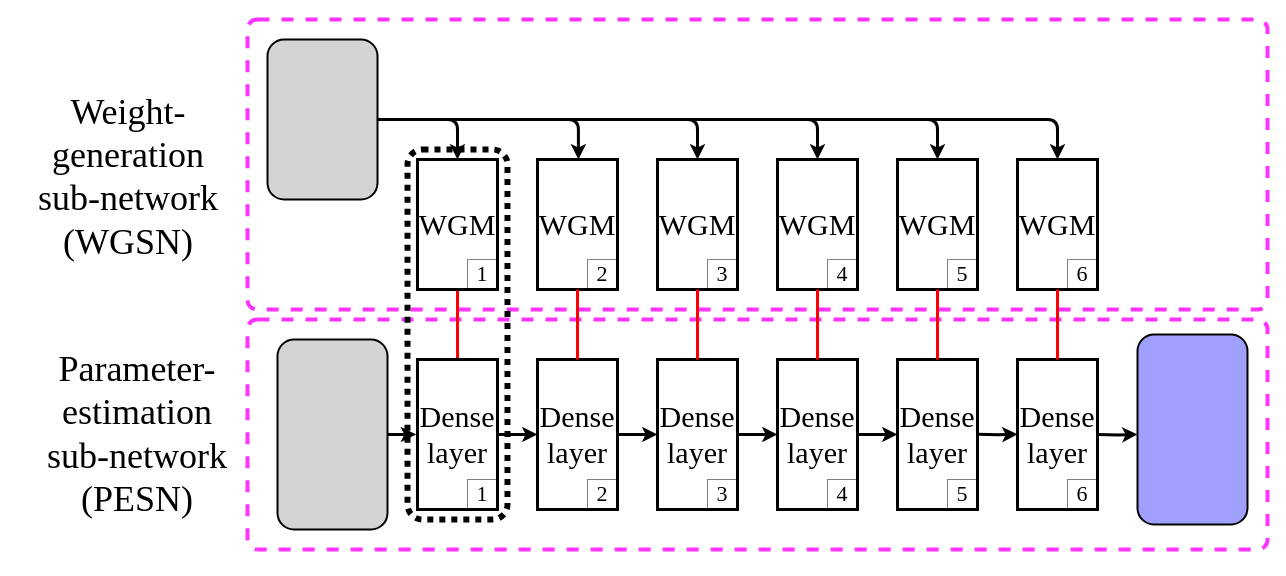
Image size: 1286x576. Some labels were removed from this diagram. The box of each missing label's shape, as (x1, y1, x2, y2) in pixels:
Hyper Input: (266, 38, 378, 200)
Model Input: (276, 338, 388, 530)
Model output: (1136, 333, 1248, 525)
